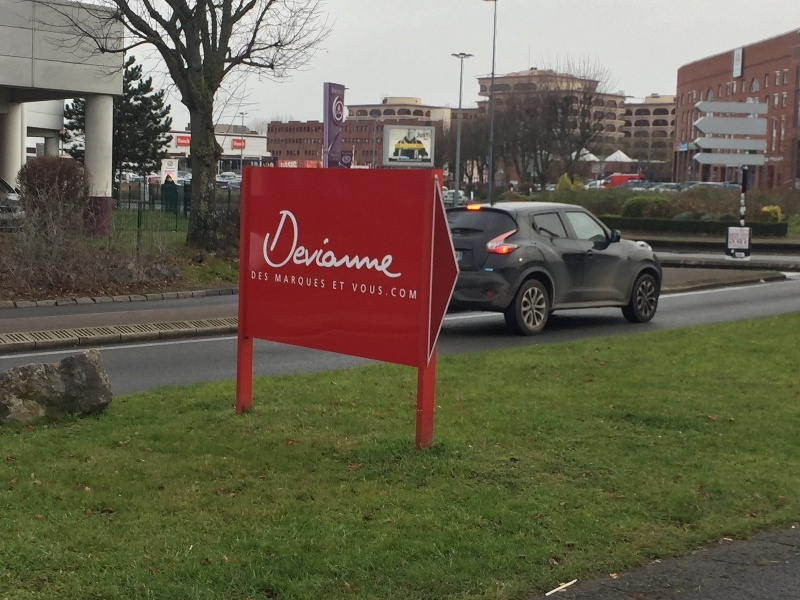text: (273, 207, 288, 281), (289, 207, 304, 281), (305, 207, 320, 281), (321, 207, 336, 281), (337, 207, 352, 281), (353, 207, 368, 281), (369, 207, 384, 281), (385, 207, 400, 281), (401, 207, 405, 281), (289, 274, 304, 290), (305, 274, 320, 290), (401, 286, 417, 300), (353, 283, 368, 297), (369, 283, 384, 297), (276, 274, 288, 290), (257, 270, 269, 282), (391, 286, 400, 300), (165, 167, 176, 175), (337, 280, 345, 291), (456, 251, 464, 262), (178, 138, 192, 144), (417, 133, 432, 138), (321, 274, 325, 290), (289, 161, 298, 168), (337, 87, 344, 96), (242, 142, 256, 146), (385, 283, 389, 297), (281, 161, 288, 168), (252, 270, 256, 282), (332, 87, 336, 96), (331, 154, 336, 161), (333, 280, 336, 291), (234, 141, 240, 146), (337, 154, 341, 161), (343, 152, 352, 155), (241, 141, 242, 146)
